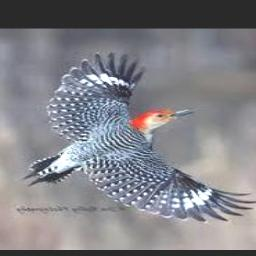Woodpecker: (22, 51, 256, 223)
